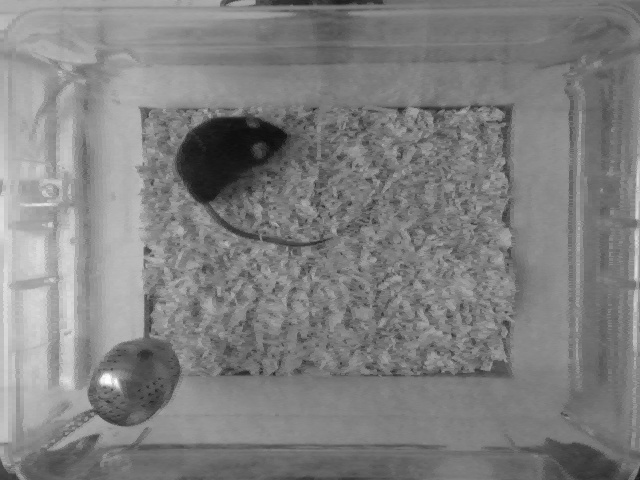mice: (168, 111, 334, 251)
